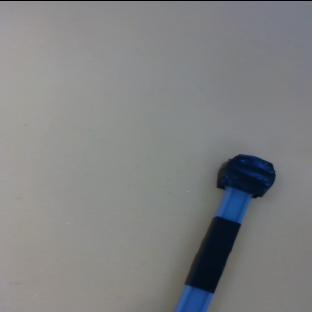part_3_bad: (152, 142, 281, 312)
